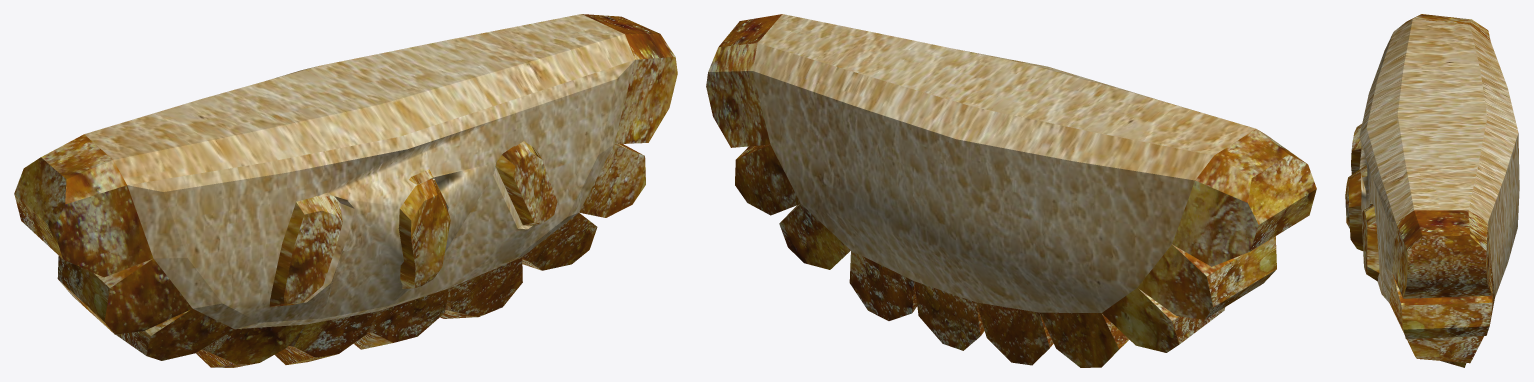
Rendered from CALZONE.FBX.
3 views of the same model, side by side, from view 1: azimuth 30°, elevation 25°; view 2: azimuth 150°, elevation 25°; view 3: azimuth 270°, elevation 25° (orthographic). The views are drawn at different scales.
Parts seen in each view (by area): view 1: Box001; view 2: Box001; view 3: Box001.
Boxes of the visible parts, x1,y1,x2,y2 form: Box001: (14,14,677,367); Box001: (706,14,1316,367); Box001: (1345,14,1519,367).
Bounding box in the file's own units: 315 × 137 × 99.52.
2 materials, 2 textured.
